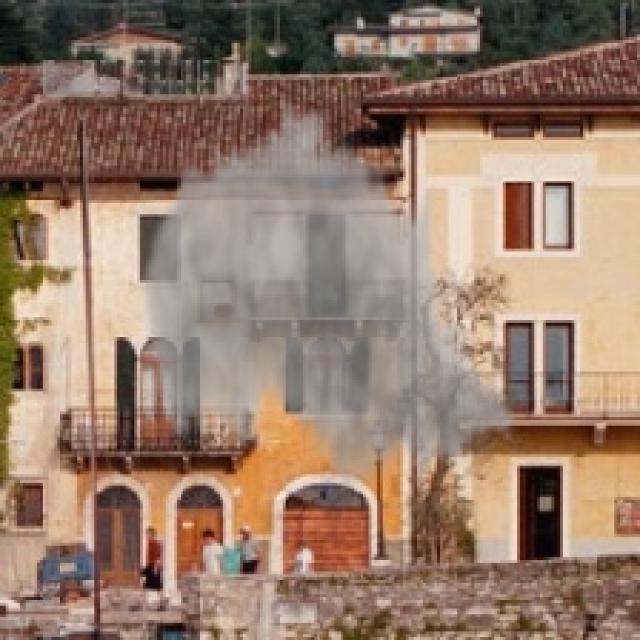smoke: (137, 91, 520, 503)
